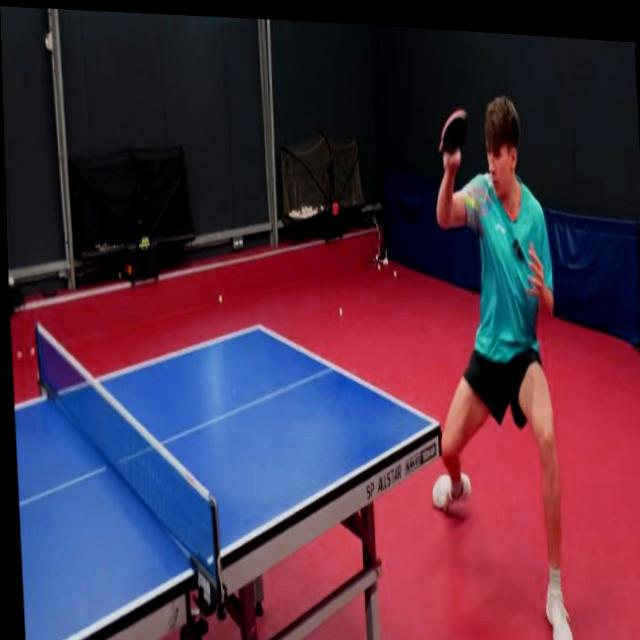TT Net: (35, 323, 228, 593)
TT Racket: (430, 99, 478, 163)
TT Table: (13, 320, 441, 640)
